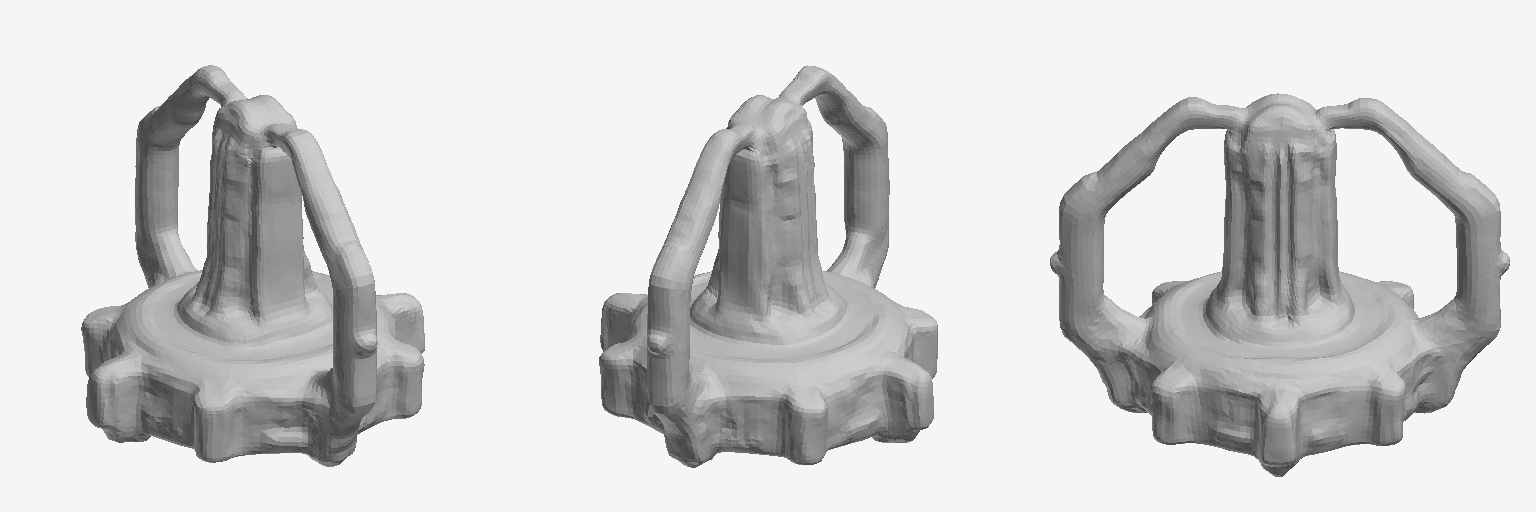
File: 7e22c4b3733c_a_large_sci_fi_plas.obj
The picture shows the model from 3 angles: view 1: azimuth 30°, elevation 25°; view 2: azimuth 150°, elevation 25°; view 3: azimuth 270°, elevation 25°; orthographic projection.
Visible parts, largest first — view 1: mesh; view 2: mesh; view 3: mesh.
Part boxes in pixels (bbox=[...]): mesh: bbox=[81, 65, 424, 466]; mesh: bbox=[599, 65, 937, 467]; mesh: bbox=[1050, 93, 1509, 476].
Size of the model in its own units: 0.8186 by 0.747 by 0.9995.